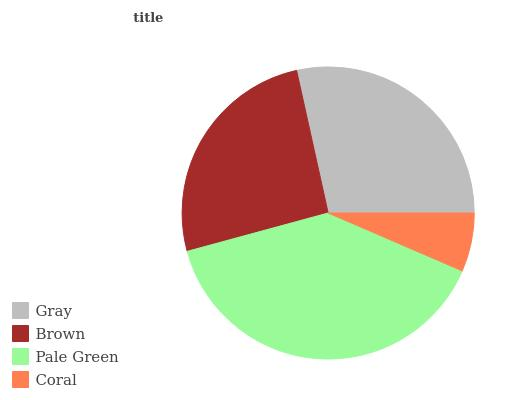legend: (0, 294, 126, 400)
sector: (185, 214, 463, 359), (181, 68, 327, 253), (296, 66, 475, 214), (327, 212, 475, 271)
